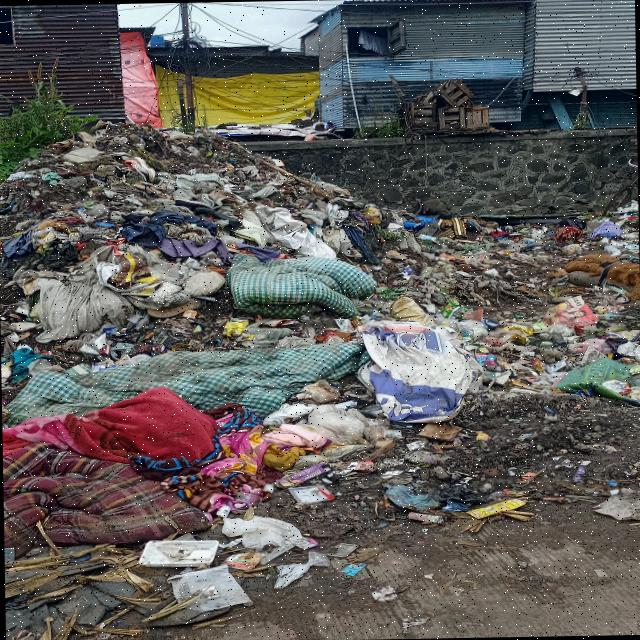garbage: (10, 120, 287, 562), (293, 207, 640, 514)
